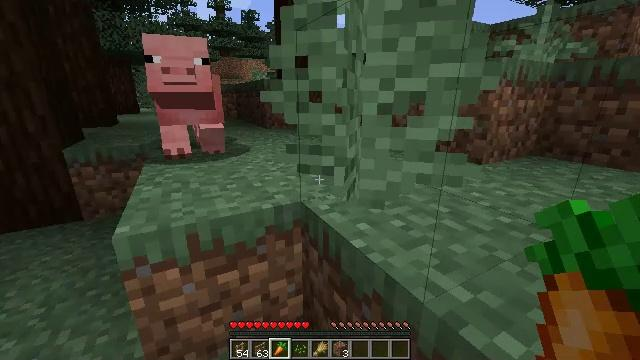pig: (144, 34, 222, 160)
